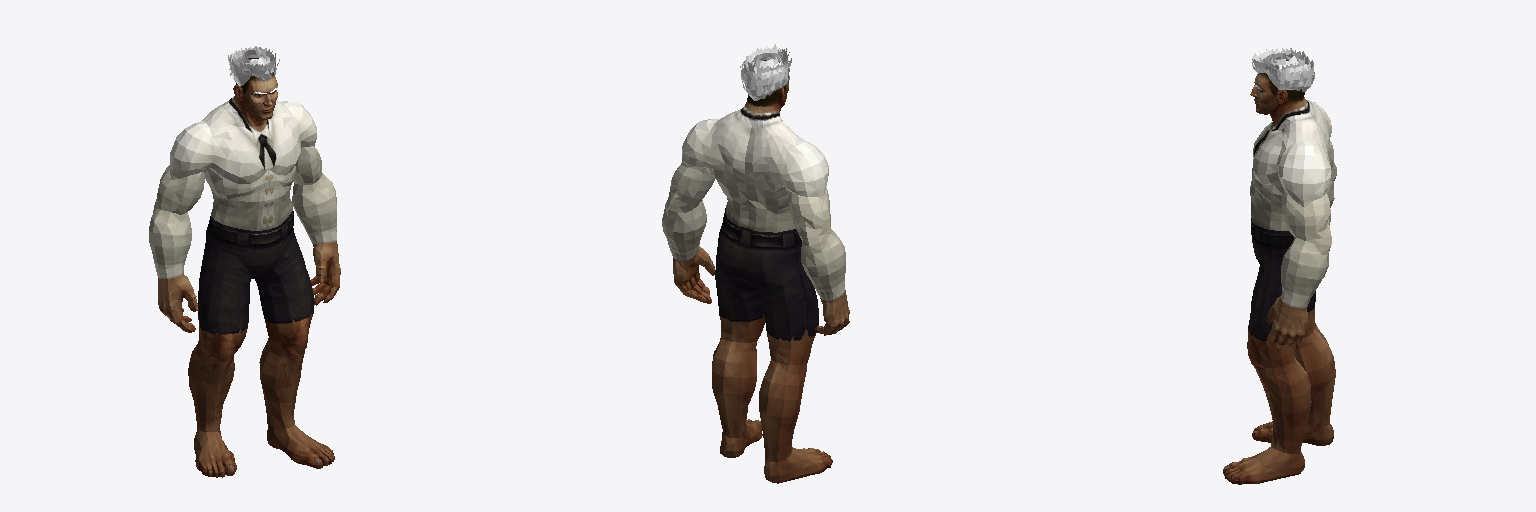
3 views of the same model, side by side, from view 1: azimuth 30°, elevation 25°; view 2: azimuth 150°, elevation 25°; view 3: azimuth 270°, elevation 25° (orthographic).
Parts seen in each view (by area): view 1: character/human/male/humanmale_hd.m2_Geoset_000-Main, character/human/male/humanmale_hd.m2_Geoset_1301-Trousers, character/human/male/humanmale_hd.m2_Geoset_501-Boots, character/human/male/humanmale_hd.m2_Geoset_401-Bracers, character/human/male/humanmale_hd.m2_Geoset_2001-Feet, character/human/male/humanmale_hd.m2_Geoset_1801-Belt, character/human/male/humanmale_hd.m2_Geoset_003-Main; view 2: character/human/male/humanmale_hd.m2_Geoset_000-Main, character/human/male/humanmale_hd.m2_Geoset_1301-Trousers, character/human/male/humanmale_hd.m2_Geoset_501-Boots, character/human/male/humanmale_hd.m2_Geoset_401-Bracers, character/human/male/humanmale_hd.m2_Geoset_2001-Feet, character/human/male/humanmale_hd.m2_Geoset_003-Main, character/human/male/humanmale_hd.m2_Geoset_1801-Belt; view 3: character/human/male/humanmale_hd.m2_Geoset_000-Main, character/human/male/humanmale_hd.m2_Geoset_501-Boots, character/human/male/humanmale_hd.m2_Geoset_1301-Trousers, character/human/male/humanmale_hd.m2_Geoset_2001-Feet, character/human/male/humanmale_hd.m2_Geoset_401-Bracers, character/human/male/humanmale_hd.m2_Geoset_003-Main, character/human/male/humanmale_hd.m2_Geoset_1801-Belt.
Part boxes in pixels (x1,y1,x2,y2): character/human/male/humanmale_hd.m2_Geoset_000-Main: (154,58,340,332); character/human/male/humanmale_hd.m2_Geoset_1301-Trousers: (198,228,313,355); character/human/male/humanmale_hd.m2_Geoset_501-Boots: (188,338,307,431); character/human/male/humanmale_hd.m2_Geoset_401-Bracers: (149,174,336,278); character/human/male/humanmale_hd.m2_Geoset_2001-Feet: (194,425,334,477); character/human/male/humanmale_hd.m2_Geoset_1801-Belt: (206,211,293,255); character/human/male/humanmale_hd.m2_Geoset_003-Main: (228,46,279,85); character/human/male/humanmale_hd.m2_Geoset_000-Main: (667,60,849,335); character/human/male/humanmale_hd.m2_Geoset_1301-Trousers: (715,235,818,357); character/human/male/humanmale_hd.m2_Geoset_501-Boots: (712,331,810,461); character/human/male/humanmale_hd.m2_Geoset_401-Bracers: (662,200,845,300); character/human/male/humanmale_hd.m2_Geoset_2001-Feet: (720,419,832,483); character/human/male/humanmale_hd.m2_Geoset_003-Main: (740,44,791,100); character/human/male/humanmale_hd.m2_Geoset_1801-Belt: (719,208,801,254); character/human/male/humanmale_hd.m2_Geoset_000-Main: (1250,60,1336,347); character/human/male/humanmale_hd.m2_Geoset_501-Boots: (1248,323,1335,453); character/human/male/humanmale_hd.m2_Geoset_1301-Trousers: (1247,246,1329,359); character/human/male/humanmale_hd.m2_Geoset_2001-Feet: (1223,421,1333,484); character/human/male/humanmale_hd.m2_Geoset_401-Bracers: (1281,175,1336,308); character/human/male/humanmale_hd.m2_Geoset_003-Main: (1252,48,1314,91); character/human/male/humanmale_hd.m2_Geoset_1801-Belt: (1251,218,1293,252).
Bounding box in the file's own units: 0.9564 × 2.06 × 0.531.
9 materials, 1 textured.